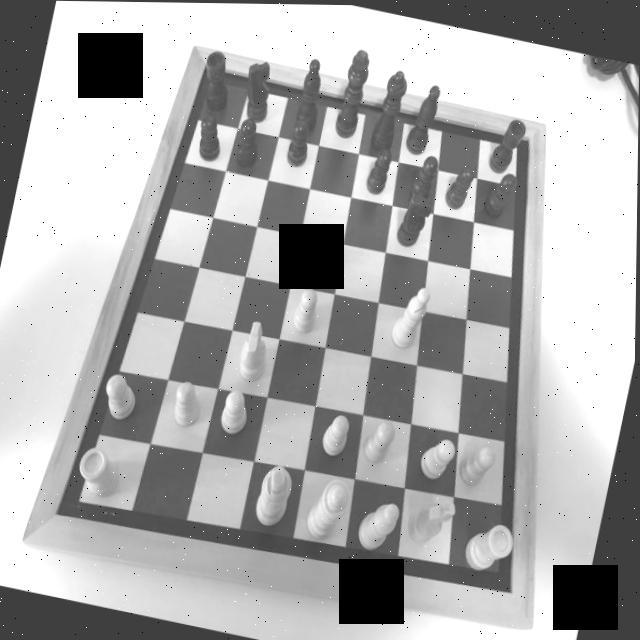chess-table-corners: (44, 495, 72, 531), (499, 573, 527, 601), (519, 125, 541, 149), (196, 54, 216, 78)
